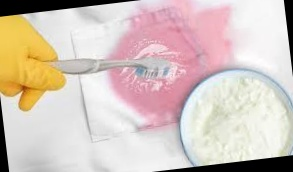wine: (123, 2, 232, 71), (109, 77, 177, 129), (101, 35, 136, 59), (179, 61, 199, 84), (112, 77, 120, 87)
